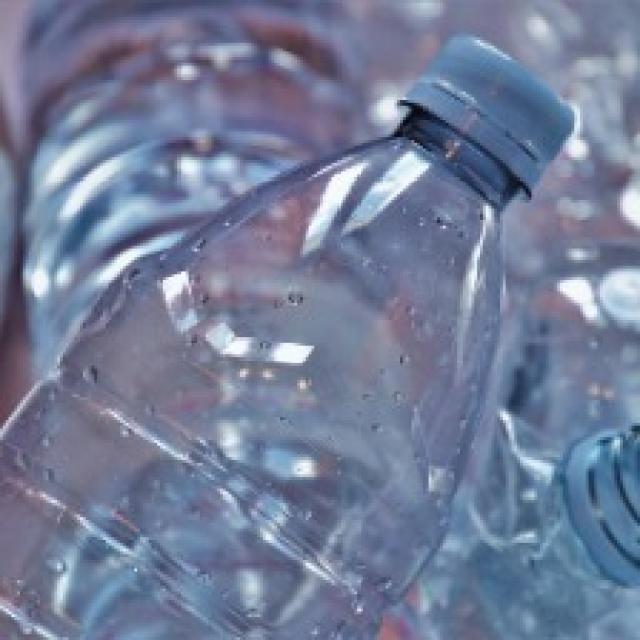plastic_bottle: (1, 114, 610, 640)
